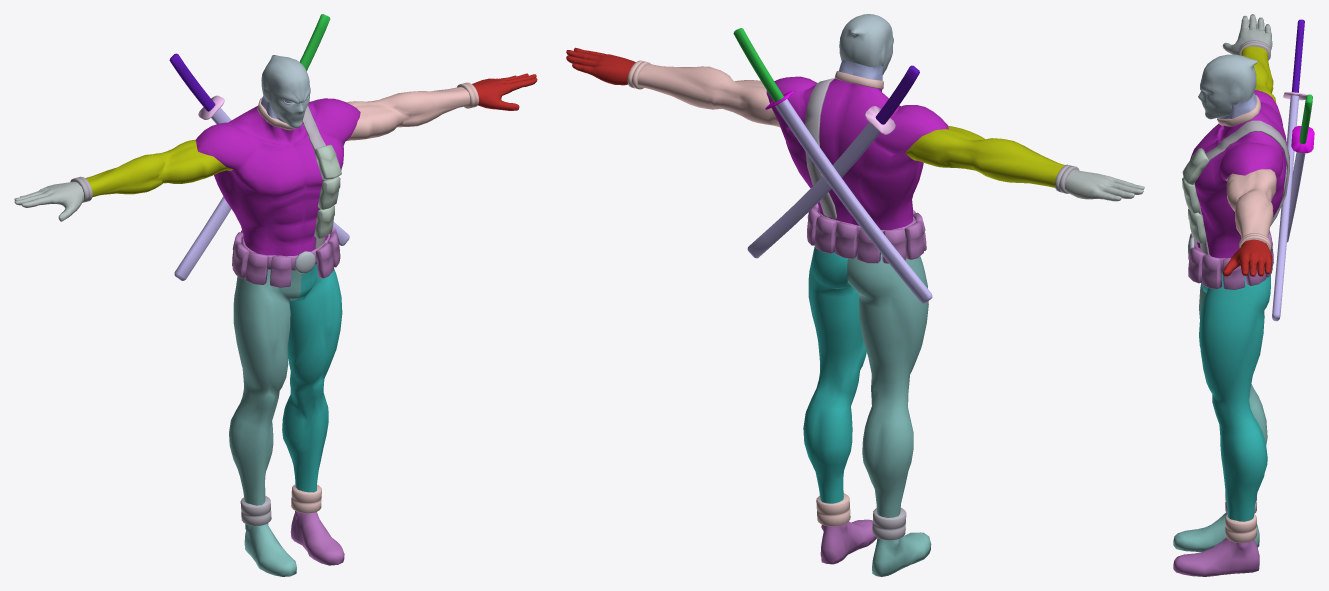
File: DeadPool.obj
The picture shows the model from 3 angles, left to right: view 1: azimuth 30°, elevation 25°; view 2: azimuth 150°, elevation 25°; view 3: azimuth 270°, elevation 25°; orthographic projection. The views are drawn at different scales.
Parts seen in each view (by area): view 1: mesh07, mesh13, mesh17, mesh10, mesh11, mesh39, mesh55, mesh15, mesh03, mesh47, mesh36, mesh01 (+4 smaller); view 2: mesh13, mesh07, mesh17, mesh36, mesh10, mesh11, mesh39, mesh55, mesh03, mesh15, mesh01, mesh43 (+5 smaller); view 3: mesh17, mesh07, mesh55, mesh11, mesh15, mesh36, mesh39, mesh47, mesh43, mesh45, mesh19, mesh03 (+8 smaller).
Part boxes in pixels (x1=…): mesh07: x1=195, y1=98, x2=360, y2=256; mesh13: x1=229, y1=269, x2=301, y2=505; mesh17: x1=282, y1=264, x2=342, y2=492; mesh10: x1=85, y1=139, x2=232, y2=197; mesh11: x1=346, y1=87, x2=470, y2=141; mesh39: x1=232, y1=227, x2=340, y2=287; mesh55: x1=261, y1=55, x2=310, y2=128; mesh15: x1=290, y1=511, x2=344, y2=565; mesh03: x1=244, y1=523, x2=296, y2=576; mesh47: x1=314, y1=144, x2=341, y2=238; mesh36: x1=174, y1=107, x2=349, y2=280; mesh01: x1=14, y1=181, x2=84, y2=221; mesh13: x1=847, y1=254, x2=928, y2=517; mesh07: x1=766, y1=76, x2=948, y2=229; mesh17: x1=803, y1=247, x2=866, y2=503; mesh36: x1=747, y1=99, x2=932, y2=303; mesh10: x1=905, y1=125, x2=1064, y2=187; mesh11: x1=637, y1=64, x2=780, y2=127; mesh39: x1=807, y1=203, x2=926, y2=263; mesh55: x1=839, y1=14, x2=893, y2=74; mesh03: x1=872, y1=532, x2=931, y2=576; mesh15: x1=820, y1=519, x2=876, y2=564; mesh01: x1=1065, y1=169, x2=1144, y2=201; mesh43: x1=627, y1=60, x2=883, y2=526; mesh17: x1=1199, y1=272, x2=1270, y2=521; mesh07: x1=1190, y1=90, x2=1286, y2=258; mesh55: x1=1198, y1=54, x2=1257, y2=119; mesh11: x1=1225, y1=169, x2=1276, y2=238; mesh15: x1=1173, y1=538, x2=1259, y2=576; mesh36: x1=1272, y1=95, x2=1305, y2=321; mesh39: x1=1188, y1=230, x2=1273, y2=289; mesh47: x1=1182, y1=148, x2=1208, y2=243; mesh43: x1=1217, y1=95, x2=1270, y2=542; mesh45: x1=1194, y1=120, x2=1289, y2=255; mesh19: x1=1222, y1=239, x2=1272, y2=276; mesh03: x1=1173, y1=512, x2=1259, y2=551.
Size of the model in its own units: 82.25 by 73.79 by 18.9.
